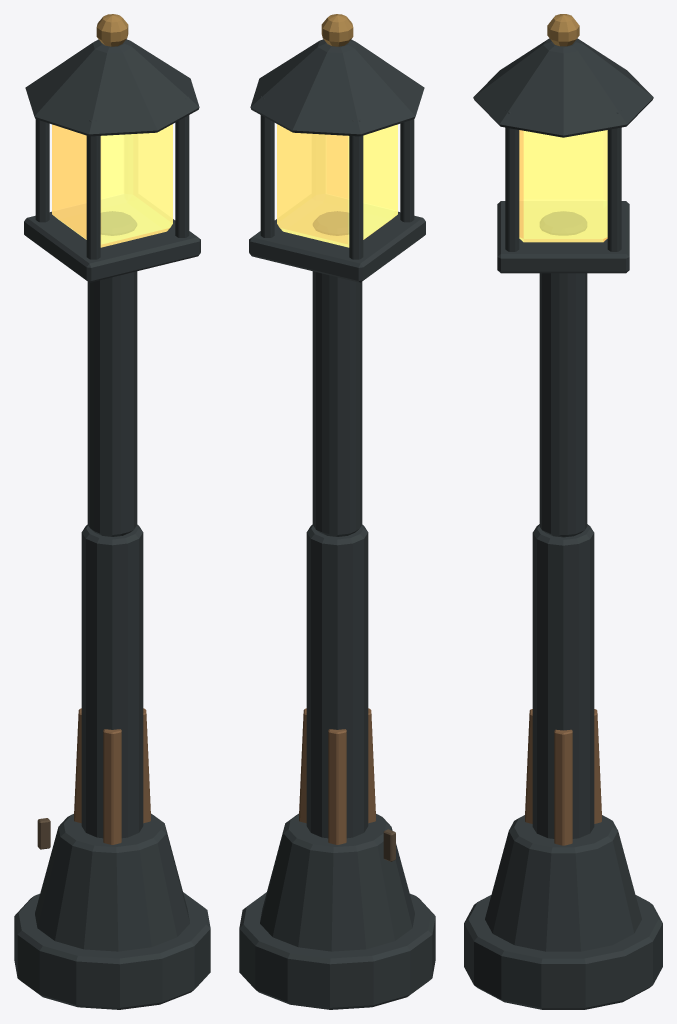
File: runtime.glb
3 renders of one model, left to right at view 1: azimuth 30°, elevation 25°; view 2: azimuth 150°, elevation 25°; view 3: azimuth 270°, elevation 25°, orthographic.
Parts seen in each view (by area): view 1: eiffel-historic-lamp-v01_nocol; view 2: eiffel-historic-lamp-v01_nocol; view 3: eiffel-historic-lamp-v01_nocol.
Part boxes in pixels (<box>): eiffel-historic-lamp-v01_nocol: <box>14,14,210,1009</box>; eiffel-historic-lamp-v01_nocol: <box>239,14,435,1009</box>; eiffel-historic-lamp-v01_nocol: <box>464,14,662,1009</box>.
Size of the model in its own units: 0.8189 by 4.45 by 0.84.
